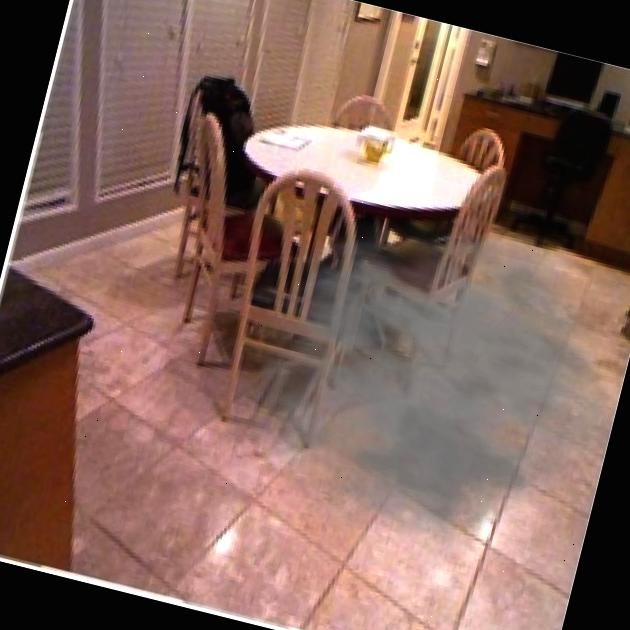smoke: (171, 164, 630, 605)
